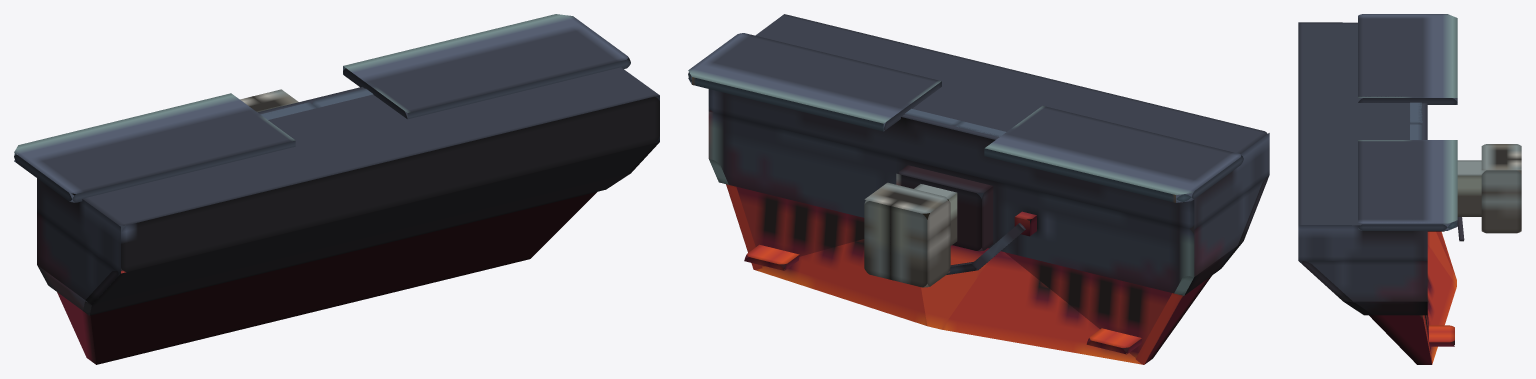
File: gc220ii_cowcatcher.obj
3 renders of one model, left to right at view 1: azimuth 30°, elevation 25°; view 2: azimuth 150°, elevation 25°; view 3: azimuth 270°, elevation 25°, orthographic. The views are drawn at different scales.
Visible parts, largest first — view 1: cuboid_selection_selection_selection_selection_selection_selecti; view 2: cuboid_selection_selection_selection_selection_selection_selecti; view 3: cuboid_selection_selection_selection_selection_selection_selecti.
Boxes of the visible parts, left/top/right/bottom form: cuboid_selection_selection_selection_selection_selection_selecti: left=14, top=14, right=659, bottom=364; cuboid_selection_selection_selection_selection_selection_selecti: left=688, top=14, right=1269, bottom=364; cuboid_selection_selection_selection_selection_selection_selecti: left=1298, top=14, right=1521, bottom=364.
Bounding box in the file's own units: 3.12 × 1.14 × 1.4.
